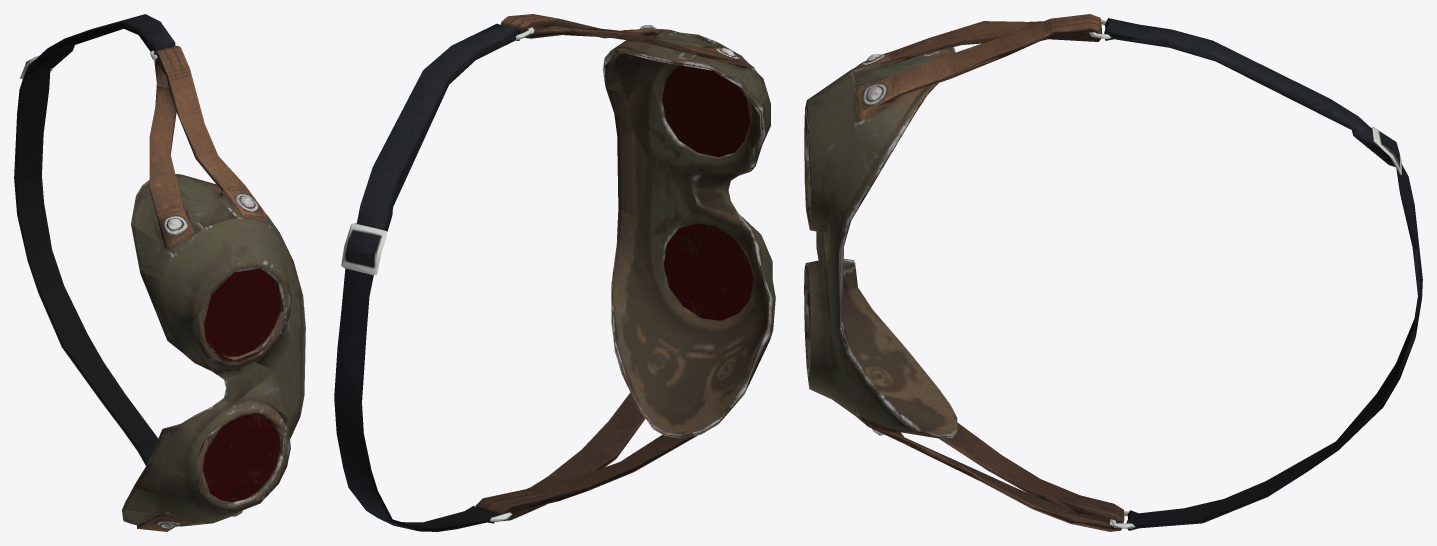
The model's file is M_DustGoggles.fbx.
The picture shows the model from 3 angles, left to right: view 1: azimuth 30°, elevation 25°; view 2: azimuth 150°, elevation 25°; view 3: azimuth 270°, elevation 25°; orthographic projection. The views are drawn at different scales.
Visible parts, largest first — view 1: DustGoggles; view 2: DustGoggles; view 3: DustGoggles.
Boxes of the visible parts, x1,y1,x2,y2 form: DustGoggles: (14,14,305,531); DustGoggles: (334,14,775,531); DustGoggles: (804,14,1422,531).
Bounding box in the file's own units: 0.0532 × 0.1346 × 0.1508.
